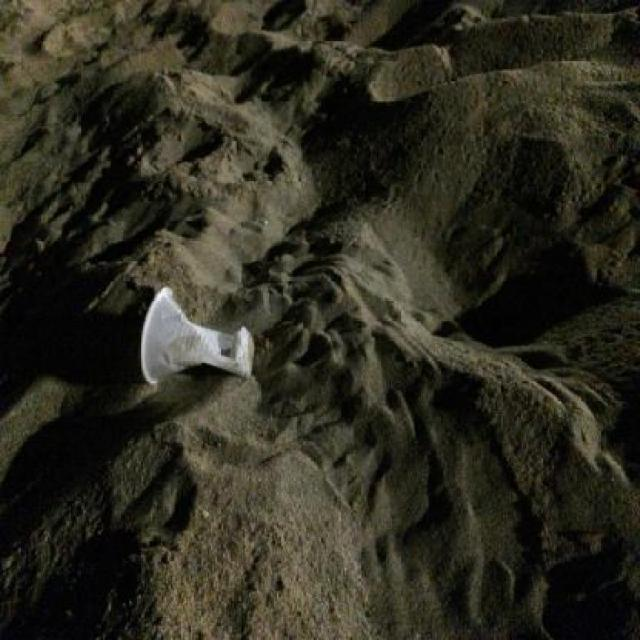plastic: (138, 285, 255, 387)
